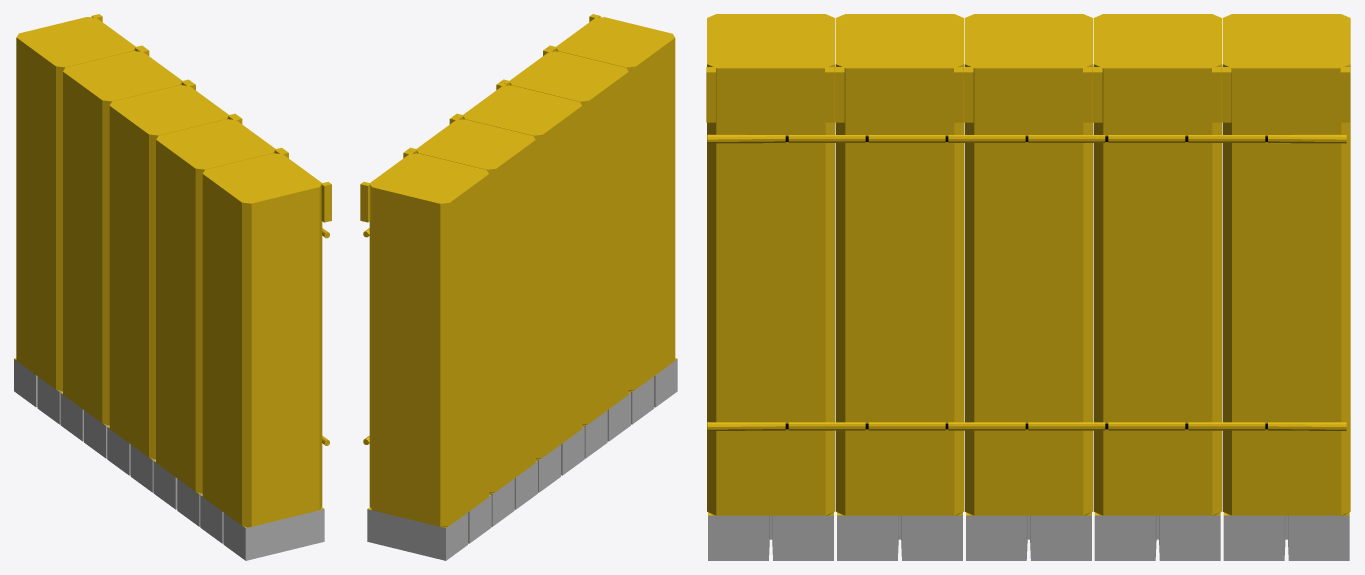
File: TempleWall.fbx
The picture shows the model from 3 angles, left to right: view 1: azimuth 30°, elevation 25°; view 2: azimuth 150°, elevation 25°; view 3: azimuth 270°, elevation 25°; orthographic projection. The views are drawn at different scales.
Visible parts, largest first — view 1: Cube; view 2: Cube; view 3: Cube, Cylinder.
Part boxes in pixels (<box>): Cube: <box>14,14,331,560</box>; Cube: <box>360,14,677,560</box>; Cube: <box>706,14,1350,560</box>; Cylinder: <box>707,134,1346,430</box>.
Bounding box in the file's own units: 215 × 849 × 1005.
